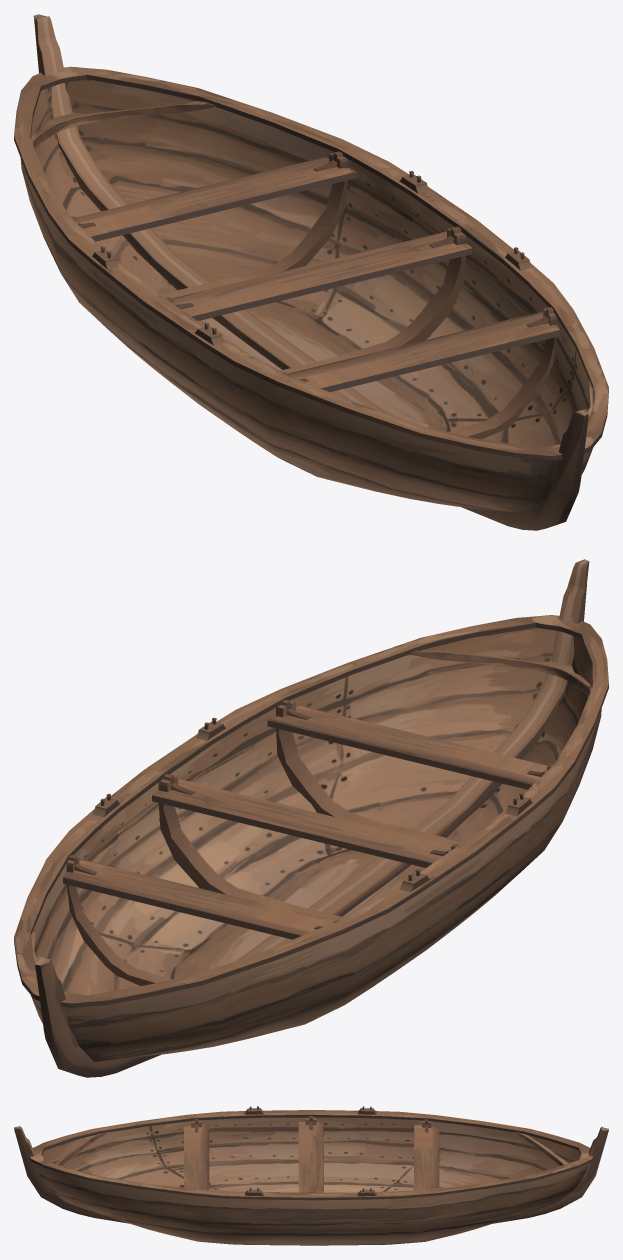
File: Rowboat01.fbx
The picture shows the model from 3 angles, top to bottom: view 1: azimuth 30°, elevation 25°; view 2: azimuth 150°, elevation 25°; view 3: azimuth 270°, elevation 25°; orthographic projection. The views are drawn at different scales.
Parts seen in each view (by area): view 1: Rowboat01; view 2: Rowboat01; view 3: Rowboat01.
Part boxes in pixels (<box>): Rowboat01: <box>14,14,608,530</box>; Rowboat01: <box>14,559,608,1077</box>; Rowboat01: <box>14,1106,608,1245</box>.
Bounding box in the file's own units: 158 × 84.91 × 453.
Materials: 3 (3 with a texture image).
